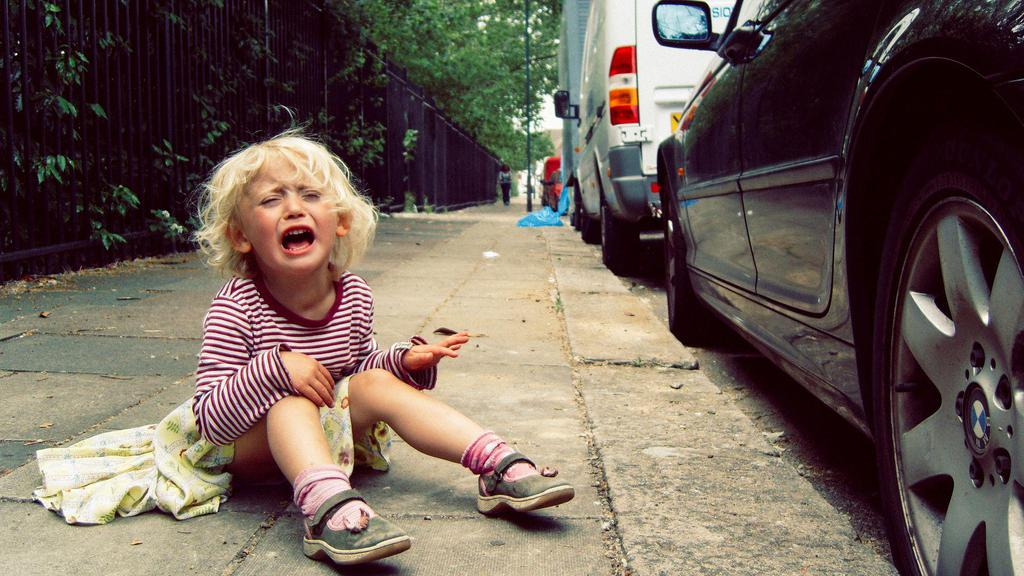child: (151, 125, 587, 562)
